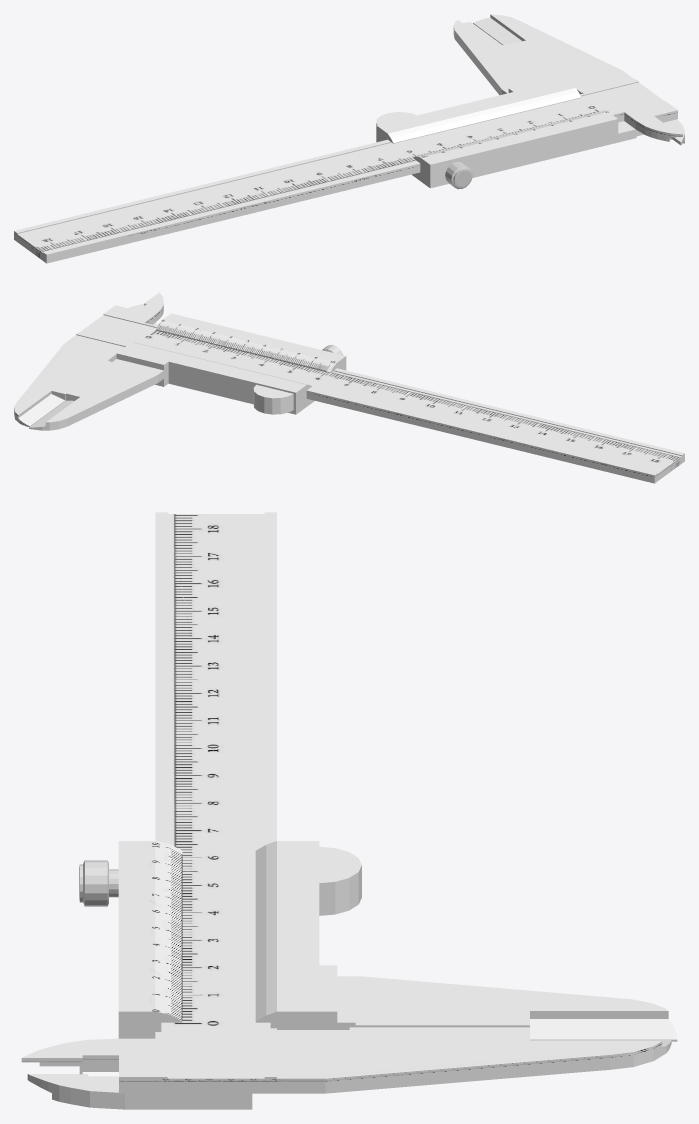
File: Calipers.fbx
3 views of the same model, one above another, from view 1: azimuth 30°, elevation 25°; view 2: azimuth 150°, elevation 25°; view 3: azimuth 270°, elevation 25° (orthographic). The views are drawn at different scales.
Parts seen in each view (by area): view 1: Base Scale, Meter, Knob; view 2: Base Scale, Meter; view 3: Base Scale, Meter, Knob.
Boxes of the visible parts, left/top/right/bottom form: Base Scale: left=14, top=14, right=682, bottom=263; Meter: left=376, top=20, right=684, bottom=188; Knob: left=445, top=162, right=472, bottom=189; Base Scale: left=14, top=292, right=684, bottom=483; Meter: left=29, top=304, right=346, bottom=430; Base Scale: left=21, top=512, right=671, bottom=1093; Meter: left=27, top=841, right=677, bottom=1109; Knob: left=79, top=860, right=118, bottom=906.
Size of the model in its own units: 238 by 8.67 by 117.
